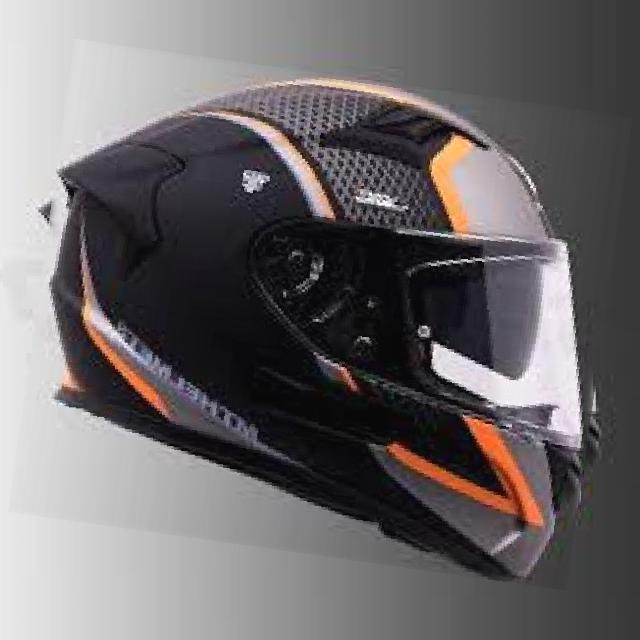helmet: (23, 58, 617, 572)
